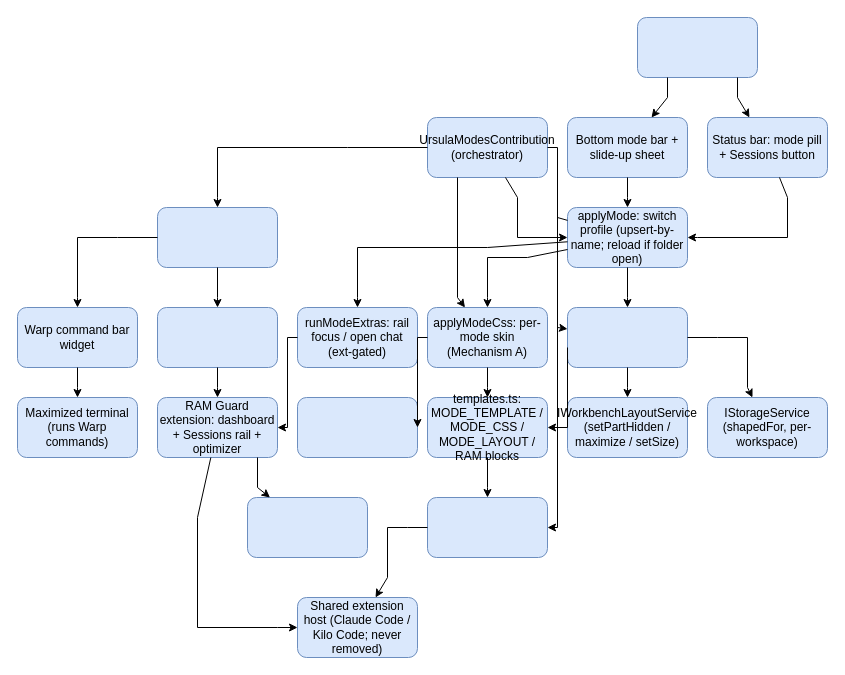
This 845x675 diagram has some shape labels left out. Here are the shapes that lost their labels. From the top down, the box of each, then its label:
(636, 16, 758, 78): User: tap mode bar / Cmd+K M / keys 1-5
(156, 206, 278, 268): updateModeWidgets: Warp bar / Cate tabs
(156, 306, 278, 368): Cate session-tab strip
(566, 306, 688, 368): applyModeLayout: hide/show/resize parts (Mechanism B; shapedFor guard)
(296, 396, 418, 458): createStyleSheet (live CSS swap)
(246, 496, 368, 558): ~/.claude sessions scan (session data)
(426, 496, 548, 558): IUserDataProfileService (a mode = a Profile)
